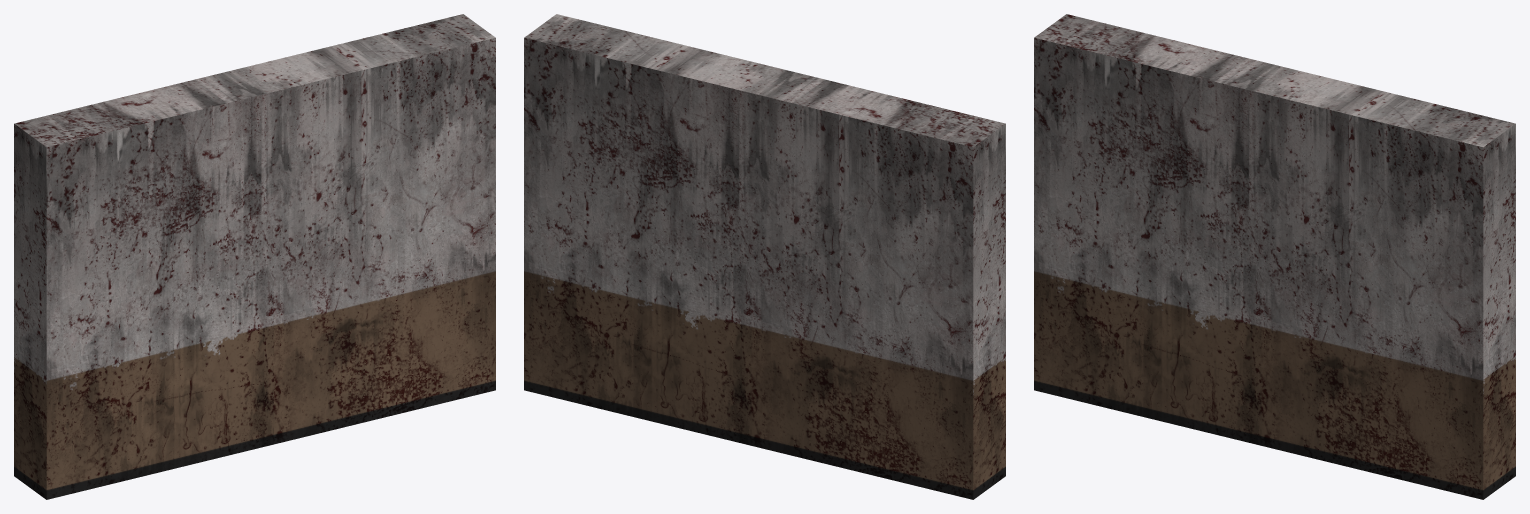
File: Mesh_Env_Wall01.fbx
3 views of the same model, side by side, from view 1: azimuth 30°, elevation 25°; view 2: azimuth 150°, elevation 25°; view 3: azimuth 330°, elevation 25° (orthographic).
Parts seen in each view (by area): view 1: Mesh_Env_Wall01; view 2: Mesh_Env_Wall01; view 3: Mesh_Env_Wall01.
Boxes of the visible parts, left/top/right/bottom form: Mesh_Env_Wall01: left=14, top=14, right=495, bottom=499; Mesh_Env_Wall01: left=524, top=14, right=1005, bottom=499; Mesh_Env_Wall01: left=1034, top=14, right=1515, bottom=499.
Size of the model in its own units: 400 by 300 by 50.
